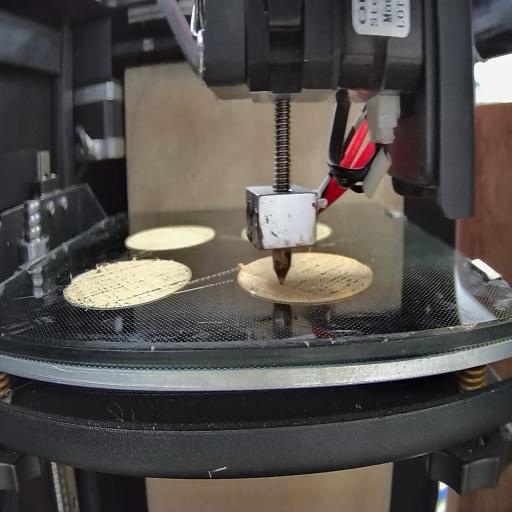under_extrusion: (70, 264, 166, 300), (296, 263, 370, 295), (167, 274, 188, 290)
